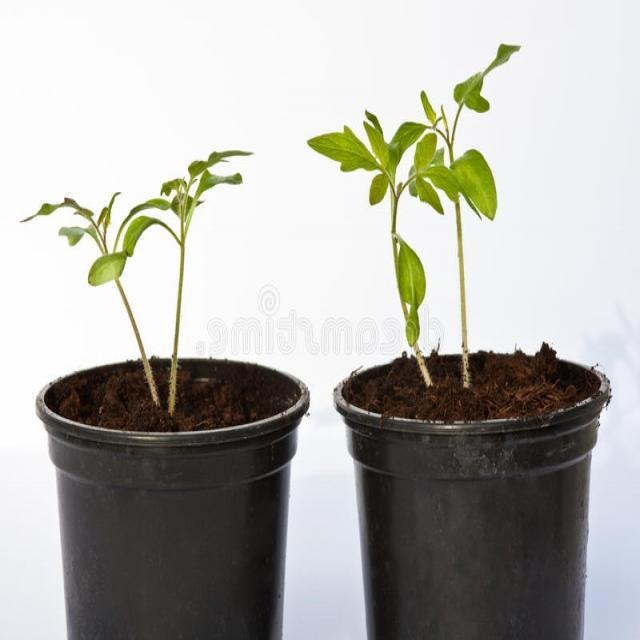tomato: (309, 43, 520, 387), (22, 151, 251, 415)
